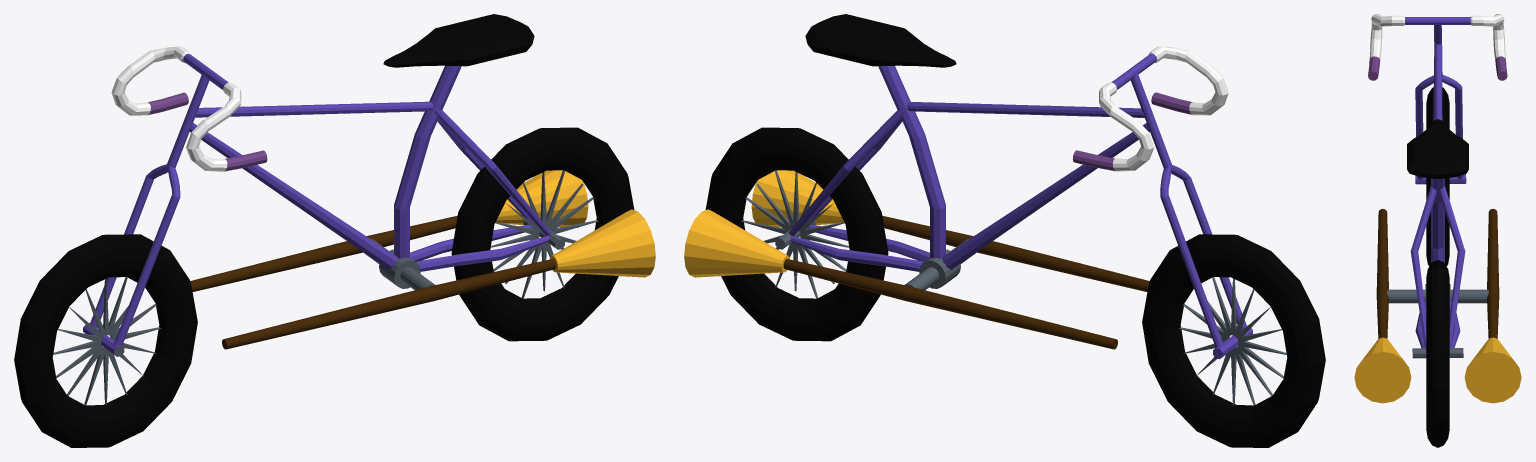
The model's file is BroomBike.fbx.
The picture shows the model from 3 angles, left to right: view 1: azimuth 30°, elevation 25°; view 2: azimuth 150°, elevation 25°; view 3: azimuth 270°, elevation 25°; orthographic projection. The views are drawn at different scales.
Parts seen in each view (by area): view 1: Cylinder.002; view 2: Cylinder.002; view 3: Cylinder.002.
Boxes of the visible parts, x1,y1,x2,y2 form: Cylinder.002: [14, 14, 655, 447]; Cylinder.002: [684, 14, 1325, 447]; Cylinder.002: [1354, 14, 1521, 447].
Size of the model in its own units: 435 by 239 by 125.
